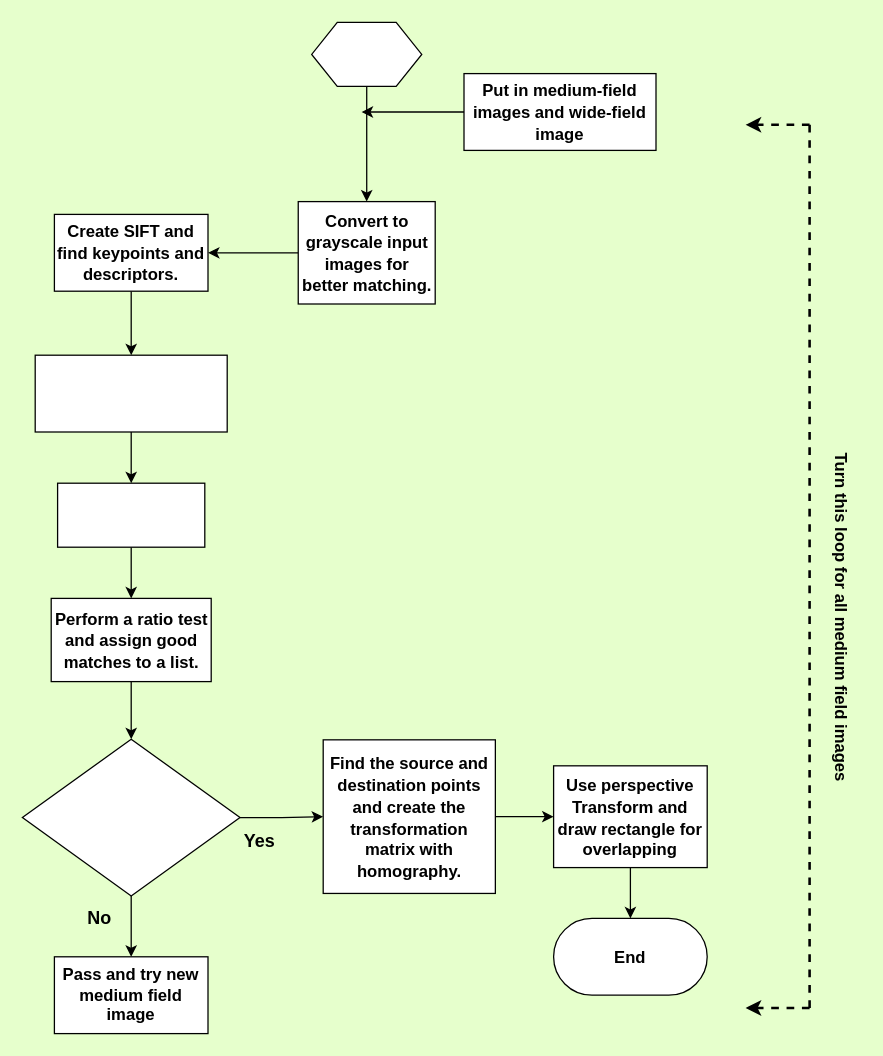
This 883x1056 diagram has some shape labels left out. The shapes that lost their labels are listed below. From the top down, each one's centre as x and y in pixels, then its label:
At point (366, 53): "START".
At point (130, 393): "Find matches with the FlannBasedMatcher algorithm.".
At point (130, 514): "Create mask to show only good matches.".
At point (130, 817): "Are there at least 5 good matches?".
